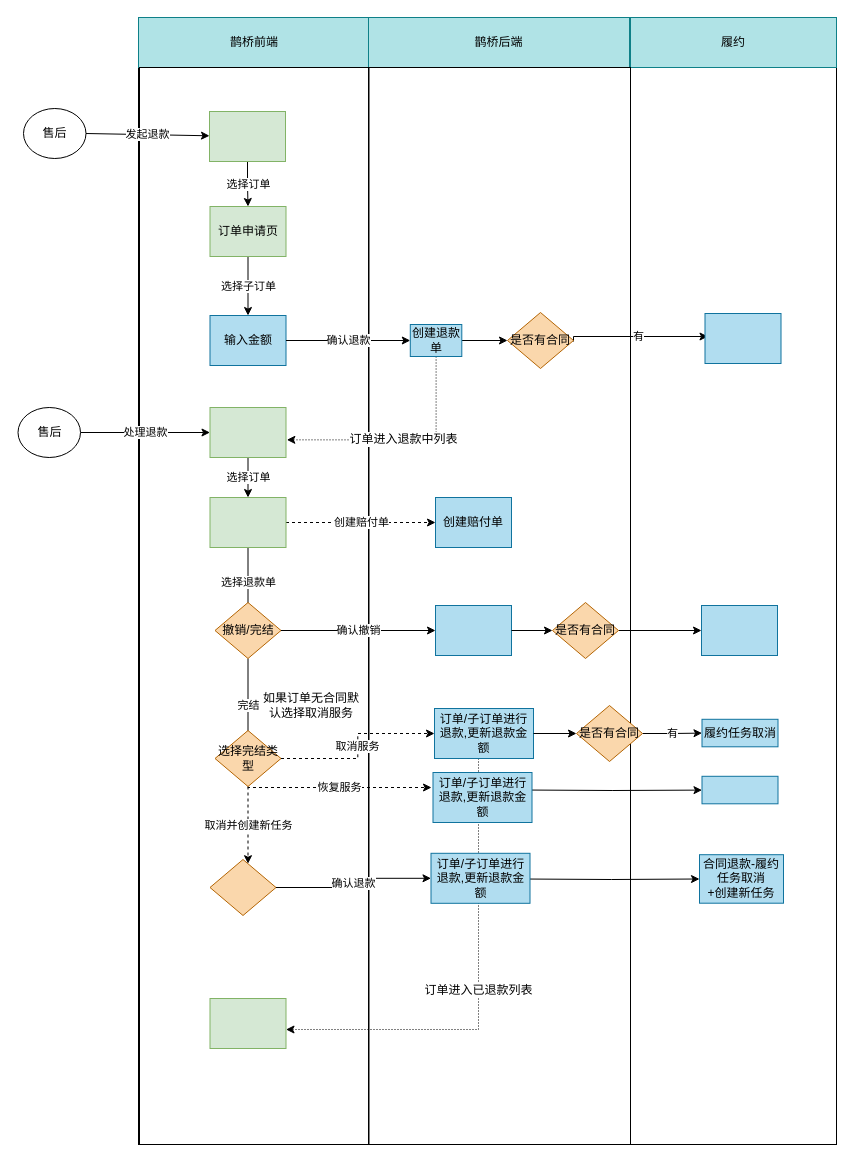
Image size: 854x1162. Some labels were removed from this diagram. Each missing label, with the box of its shape:
合同退款-履约任务取消: (701, 775, 778, 804)
履约任务恢复: (700, 604, 778, 656)
履约任务暂停: (704, 312, 781, 364)
已退款列表: (209, 998, 286, 1048)
订单列表: (208, 110, 286, 162)
订单处理页: (209, 496, 286, 548)
订单状态恢复: (434, 604, 512, 656)
退款中订单列表: (209, 406, 286, 458)
选择任务: (209, 858, 276, 916)
